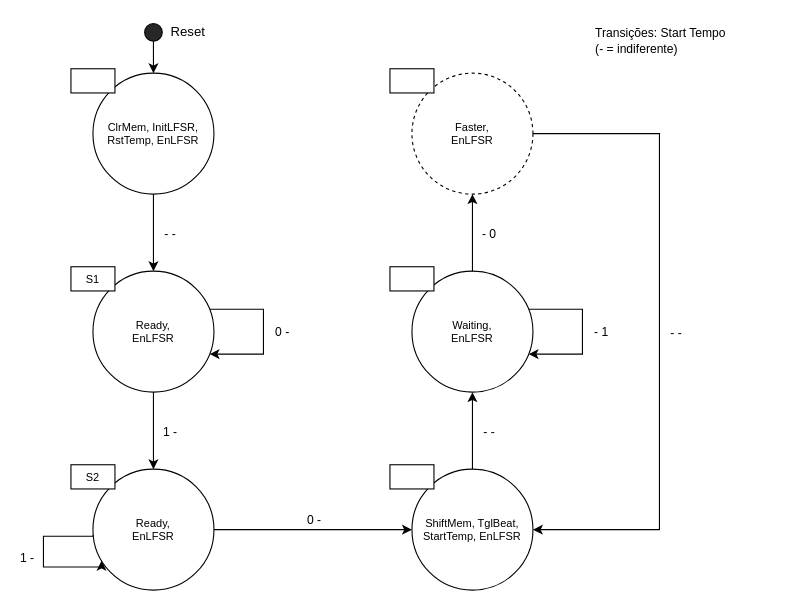
Some shapes in this 799 by 609 pixel diagram are drawn without their labels. Each missing label, with the centre of its shape:
S0: point 92,80
S3: point 411,476
S4: point 411,278
S5: point 411,80
